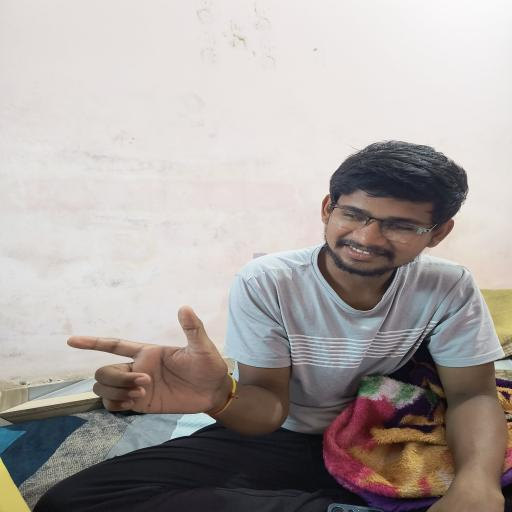Sorry: (54, 298, 271, 426)
